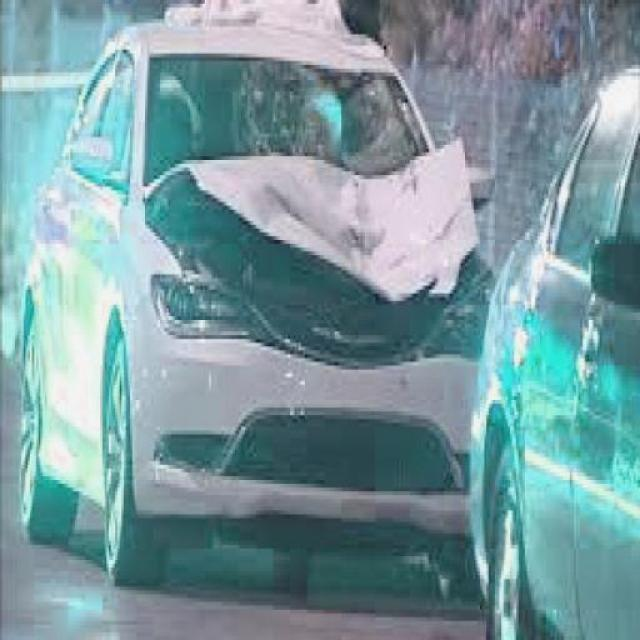car damage: (143, 53, 498, 364)
